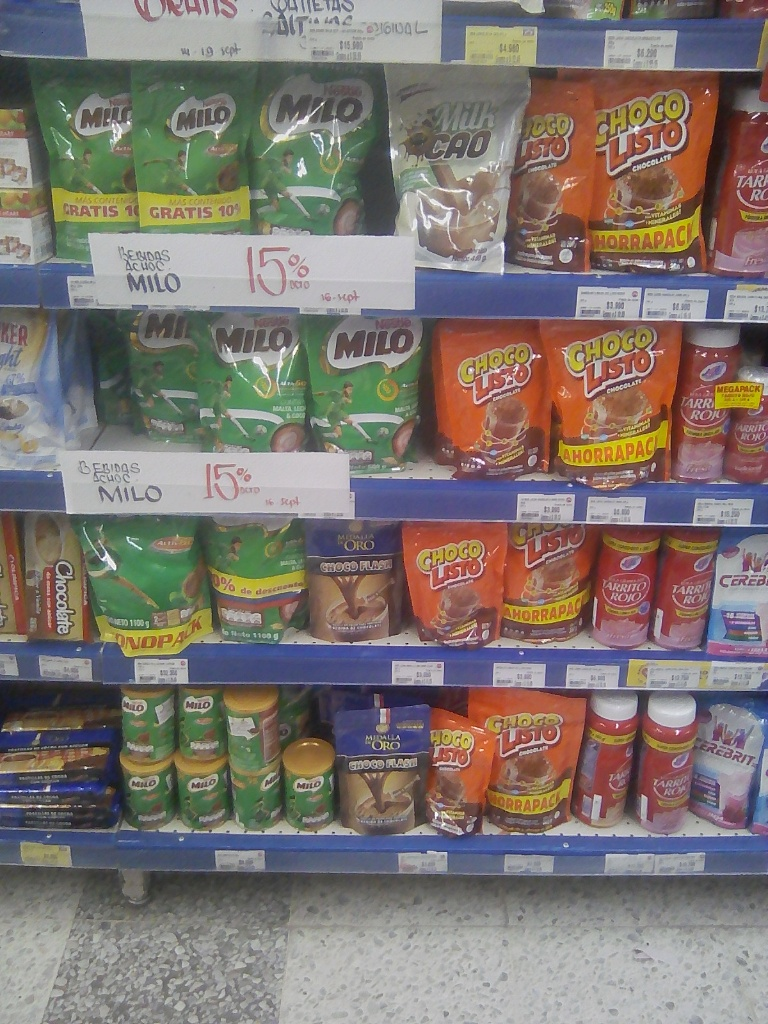COL0170103DYP20000: (508, 71, 594, 272)
COL0170103DYP36000: (573, 65, 717, 273)
COL0170203DYP25000: (249, 57, 382, 245)
COL0170203DYP50000: (304, 307, 426, 473)
COL0170203LAT20000: (113, 688, 172, 763)
